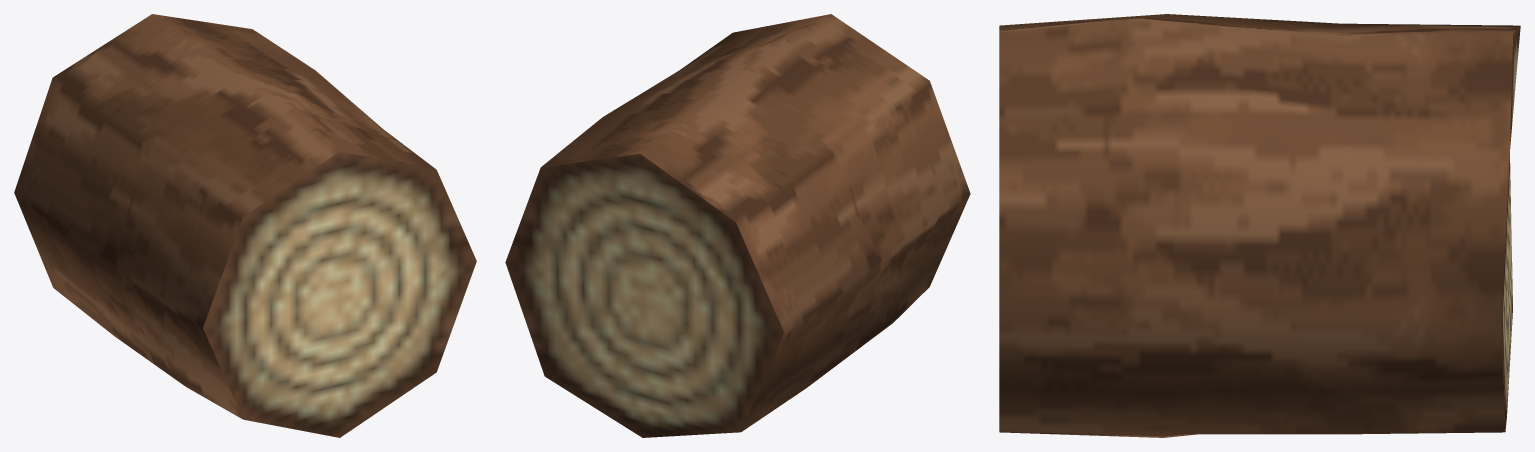
The model's file is logbolt.fbx.
3 views of the same model, side by side, from view 1: azimuth 30°, elevation 25°; view 2: azimuth 150°, elevation 25°; view 3: azimuth 270°, elevation 25° (orthographic). The views are drawn at different scales.
Visible parts, largest first — view 1: Log; view 2: Log; view 3: Log.
Part boxes in pixels (x1,y1,x2,y2): Log: (14,14,476,437); Log: (505,14,970,437); Log: (999,14,1520,437).
Size of the model in its own units: 0.1753 by 0.1749 by 0.2005.
